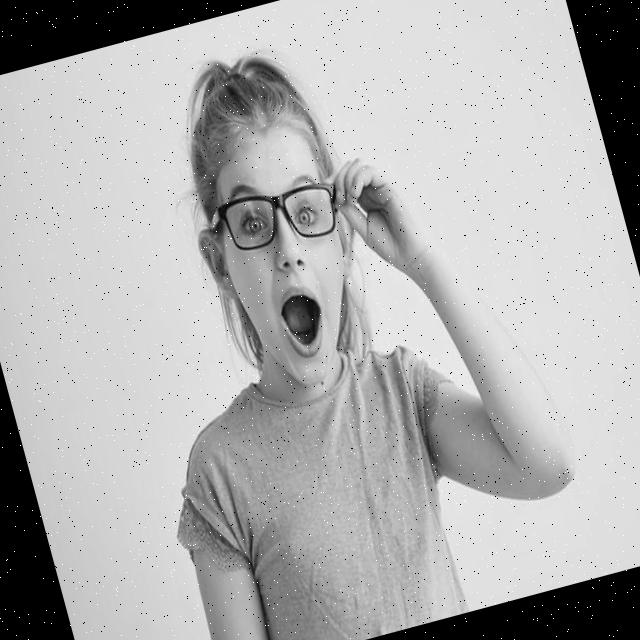Surprised: (195, 118, 375, 398)
